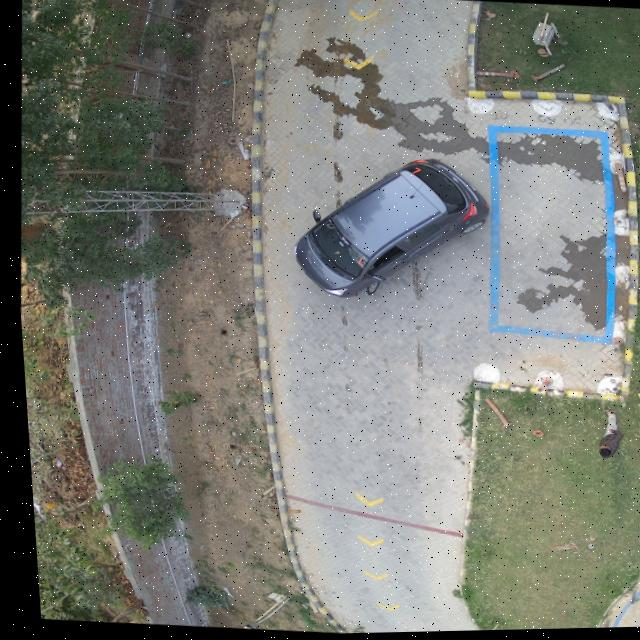car: (291, 159, 485, 298)
